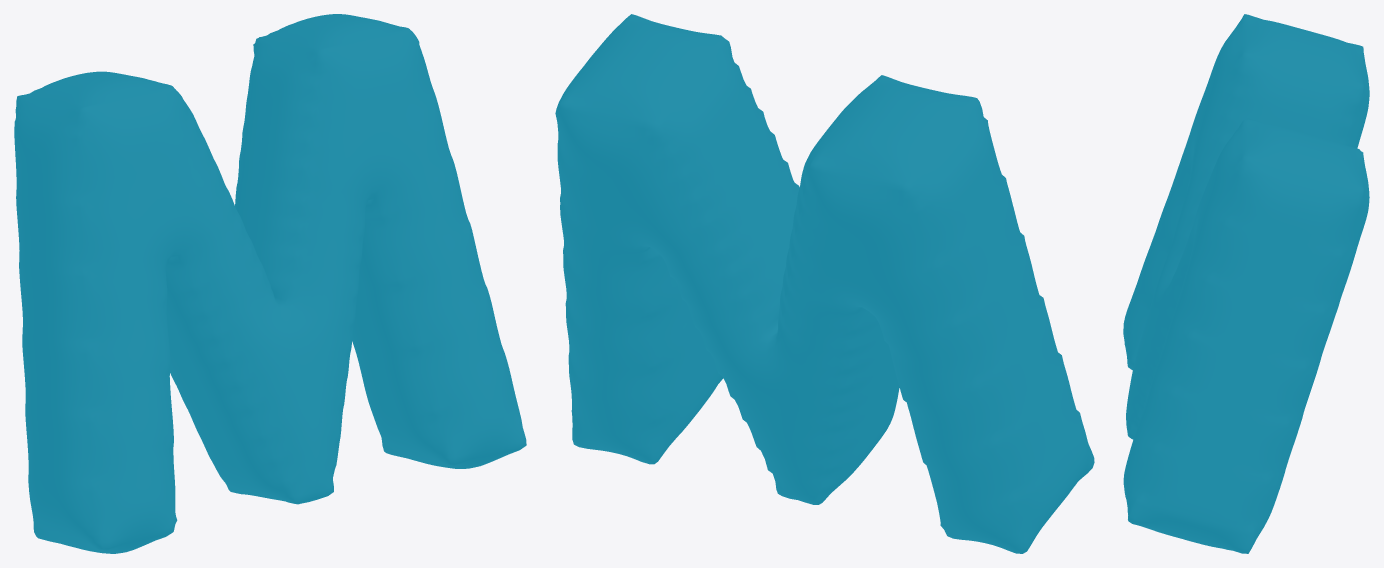
The model's file is mbukva1.glb.
The picture shows the model from 3 angles, left to right: view 1: azimuth 30°, elevation 25°; view 2: azimuth 150°, elevation 25°; view 3: azimuth 270°, elevation 25°; orthographic projection. The views are drawn at different scales.
Parts seen in each view (by area): view 1: Text; view 2: Text; view 3: Text.
Boxes of the visible parts, box(x1,y1,x2,y2) form: Text: box(14, 14, 526, 553); Text: box(555, 14, 1094, 553); Text: box(1123, 14, 1369, 553).
Bounding box in the file's own units: 0.6579 × 0.5958 × 0.3472.
